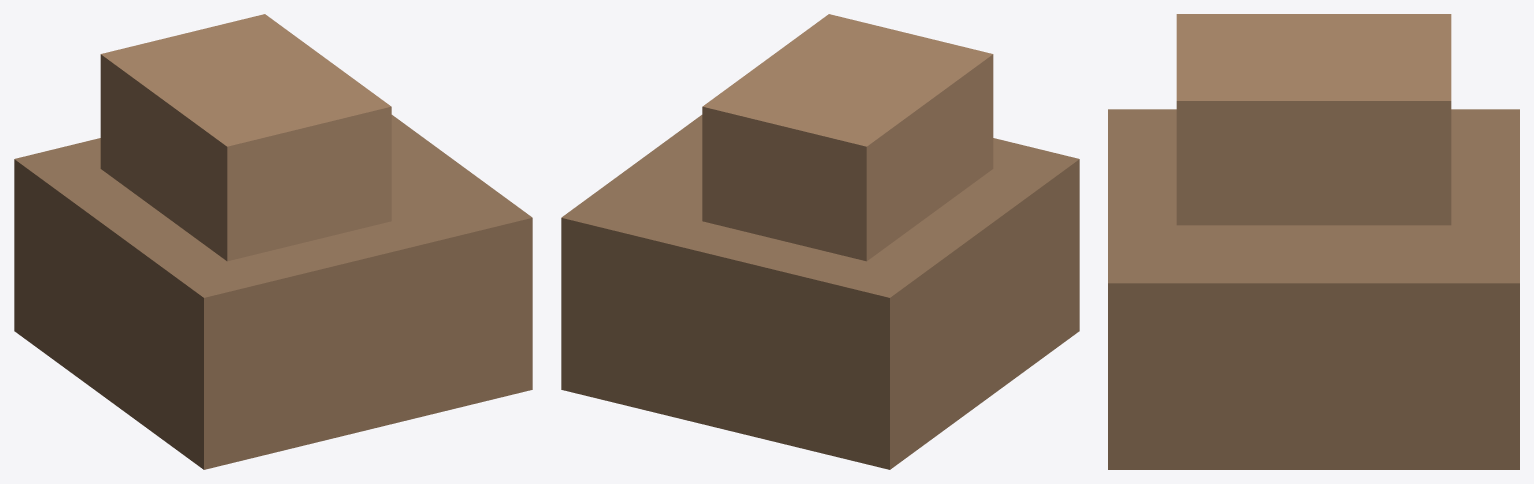
The model's file is tambor_guerra_01.glb.
The picture shows the model from 3 angles, left to right: view 1: azimuth 30°, elevation 25°; view 2: azimuth 150°, elevation 25°; view 3: azimuth 270°, elevation 25°; orthographic projection. The views are drawn at different scales.
Parts seen in each view (by area): view 1: tambor_guerra; view 2: tambor_guerra; view 3: tambor_guerra.
Part boxes in pixels (x1,y1,x2,y2): tambor_guerra: (14,14,532,469); tambor_guerra: (561,14,1079,469); tambor_guerra: (1108,14,1519,469).
Bounding box in the file's own units: 0.6 × 0.5 × 0.6.
